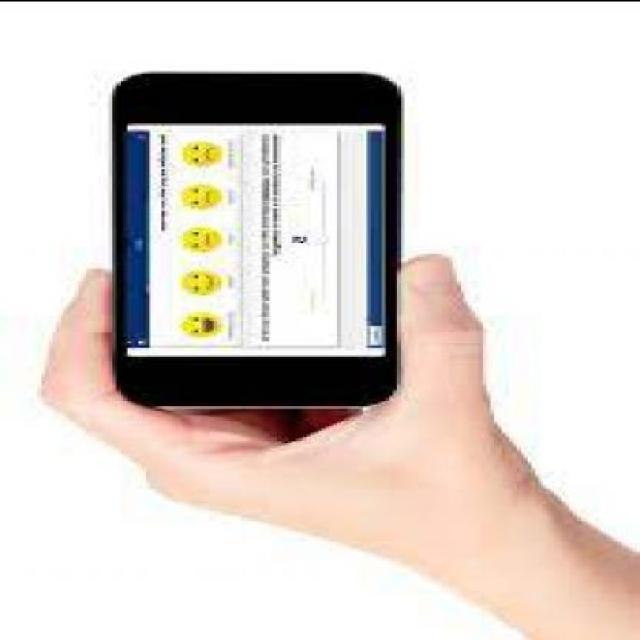phone: (108, 68, 400, 414)
